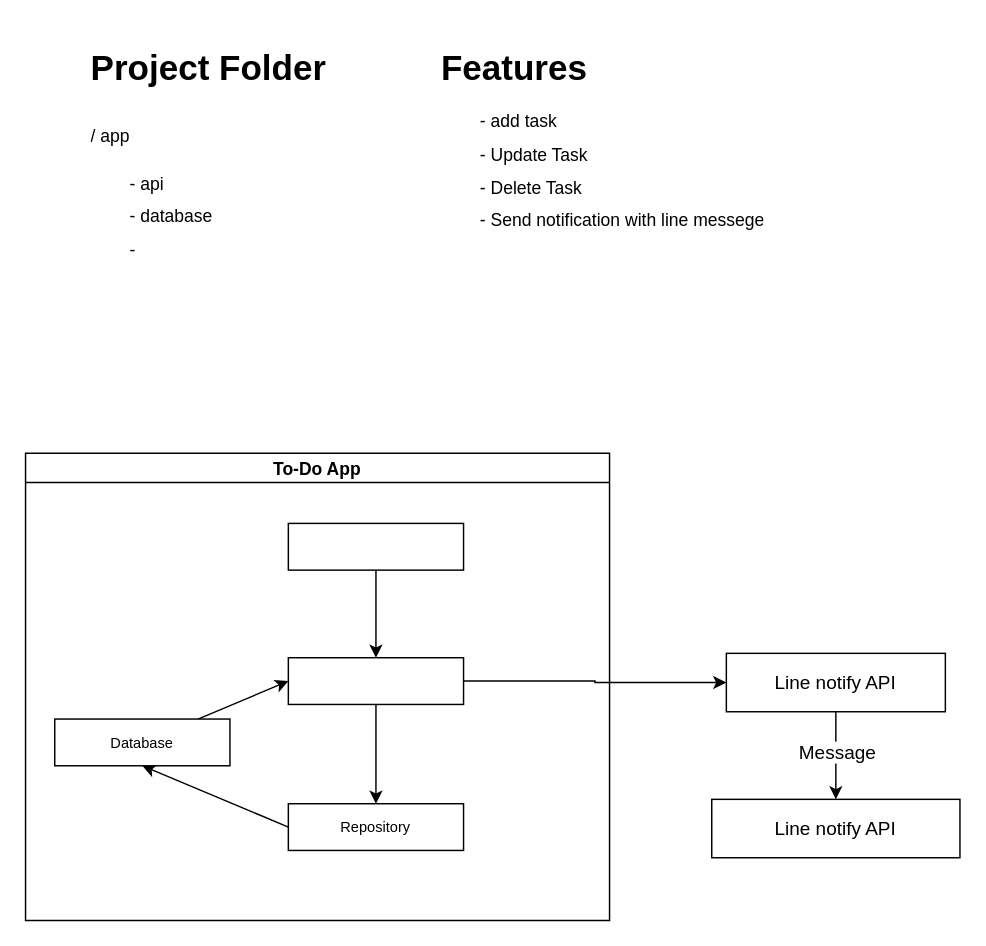
The diagram is 986 pixels wide and 946 high, and some of its shapes have lost their labels. The shapes that lost their labels are listed below. From the top down, each one's centre as x and y in pixels, then its label:
the point at 375,546: View
the point at 375,680: Controller
